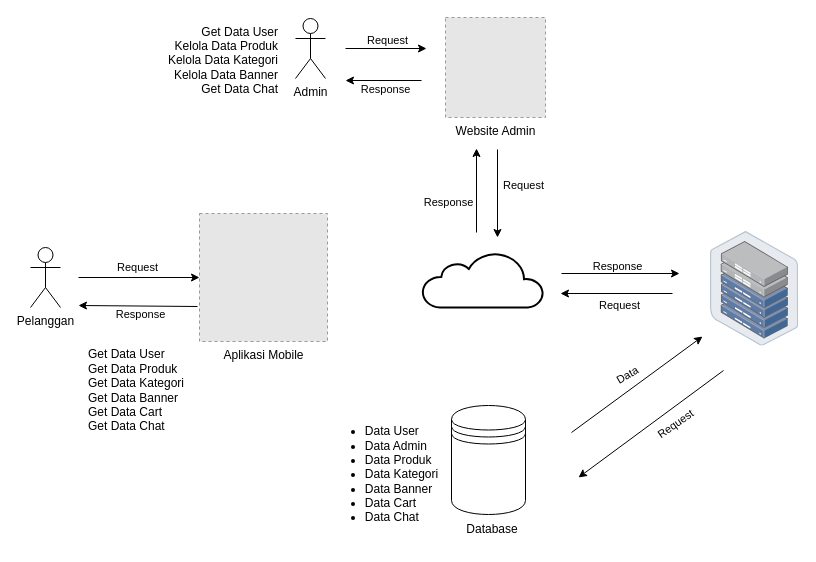
Image size: 816x562. Some labels were removed from this diagram. Grey dashed boxes stand in for pictures. The shapes that lost their labels are listed below. From the top down, each one's box as (x1, y1, x2, y2) in pixels, then its label:
(421, 251, 544, 308): API
(710, 231, 798, 346): Web Server
